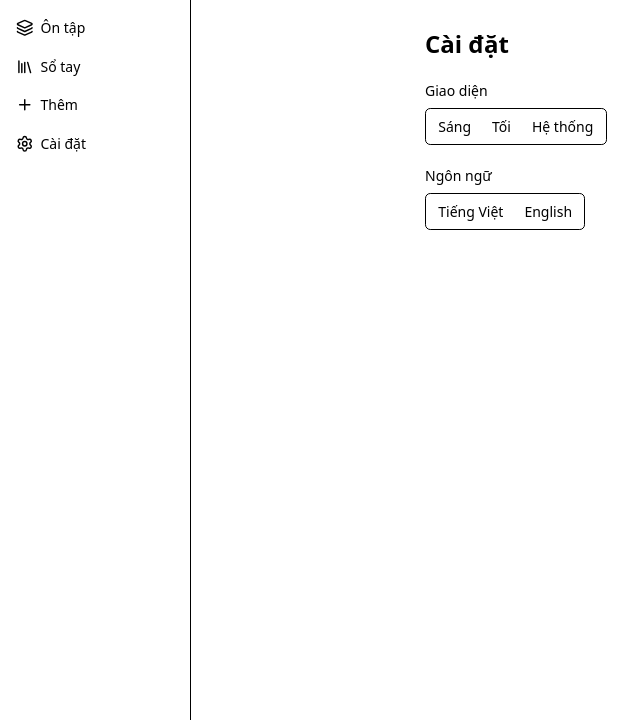
it: theme switch on /settings › switches the language and updates <html lang>
Click the button "English".
click(548, 212)  # box [514,196,582,227]
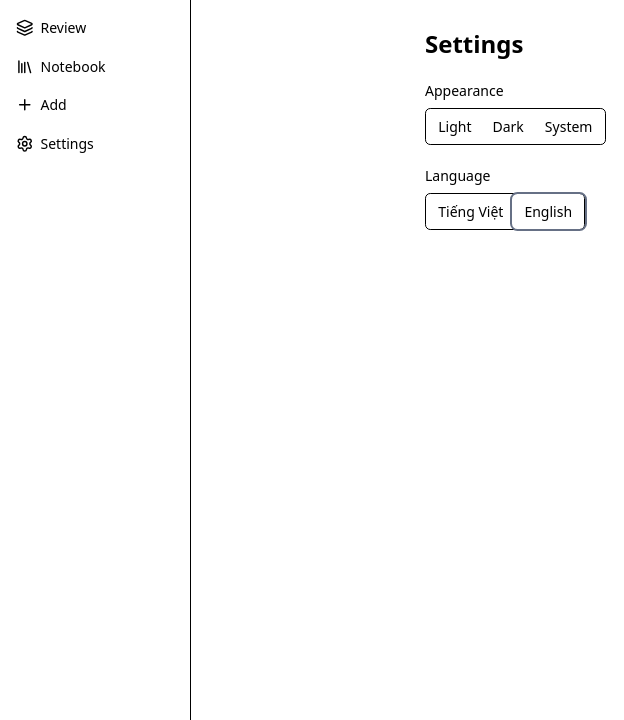
Expected: the heading "Settings" is shown, [425,27,524,60]
